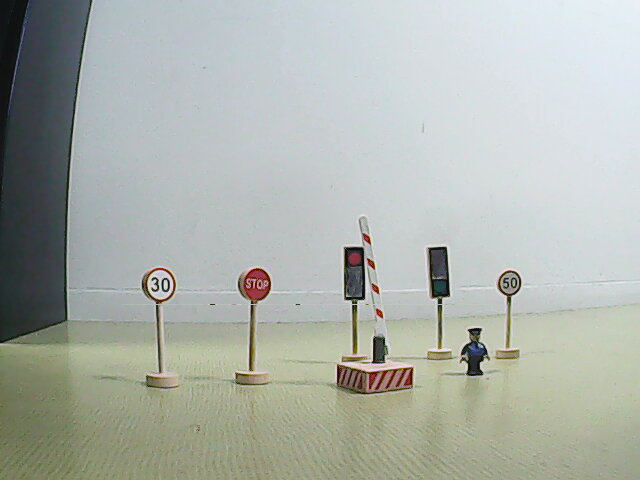barrier_up: (332, 210, 417, 395)
green_traffic_sign: (427, 246, 450, 299)
person: (457, 325, 492, 380)
red_traffic_sign: (344, 246, 365, 300)
sign_30: (141, 266, 177, 303)
sign_50: (496, 270, 521, 295)
stop_sign: (237, 267, 271, 303)
